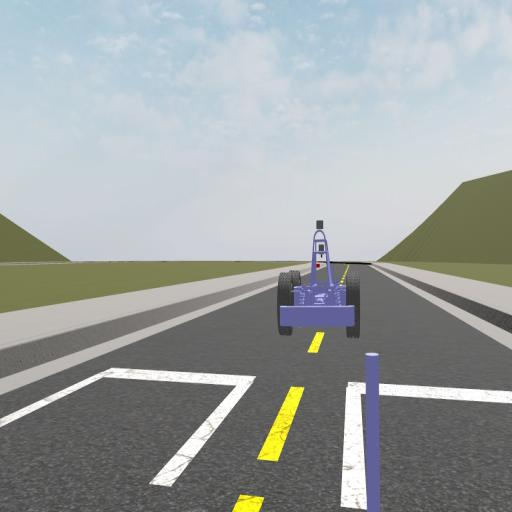ERP-42: (278, 220, 359, 337)
